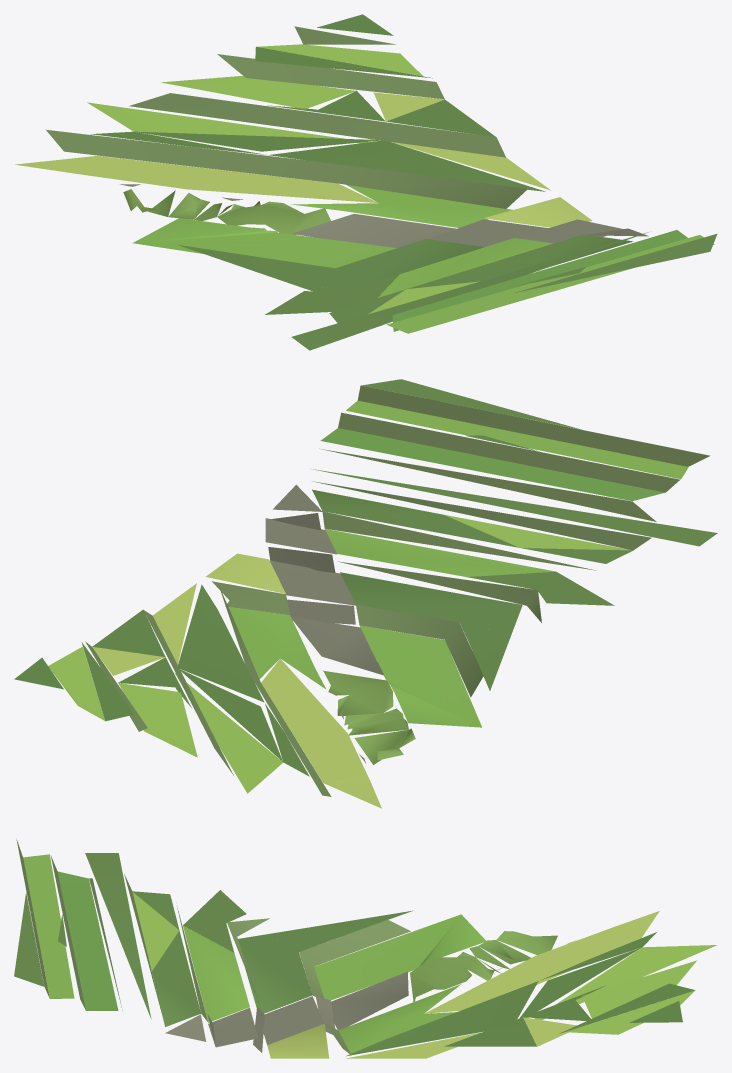
File: payo_land_xm5_y8_lod2.glb
The picture shows the model from 3 angles, top to bottom: view 1: azimuth 30°, elevation 25°; view 2: azimuth 150°, elevation 25°; view 3: azimuth 270°, elevation 25°; orthographic projection. The views are drawn at different scales.
Parts seen in each view (by area): view 1: payo_land_xm5_y8; view 2: payo_land_xm5_y8; view 3: payo_land_xm5_y8.
Boxes of the visible parts, bbox=[...] form: payo_land_xm5_y8: bbox=[15, 14, 717, 350]; payo_land_xm5_y8: bbox=[14, 379, 717, 808]; payo_land_xm5_y8: bbox=[14, 838, 716, 1058].
Size of the model in its own units: 154 by 42.13 by 268.
